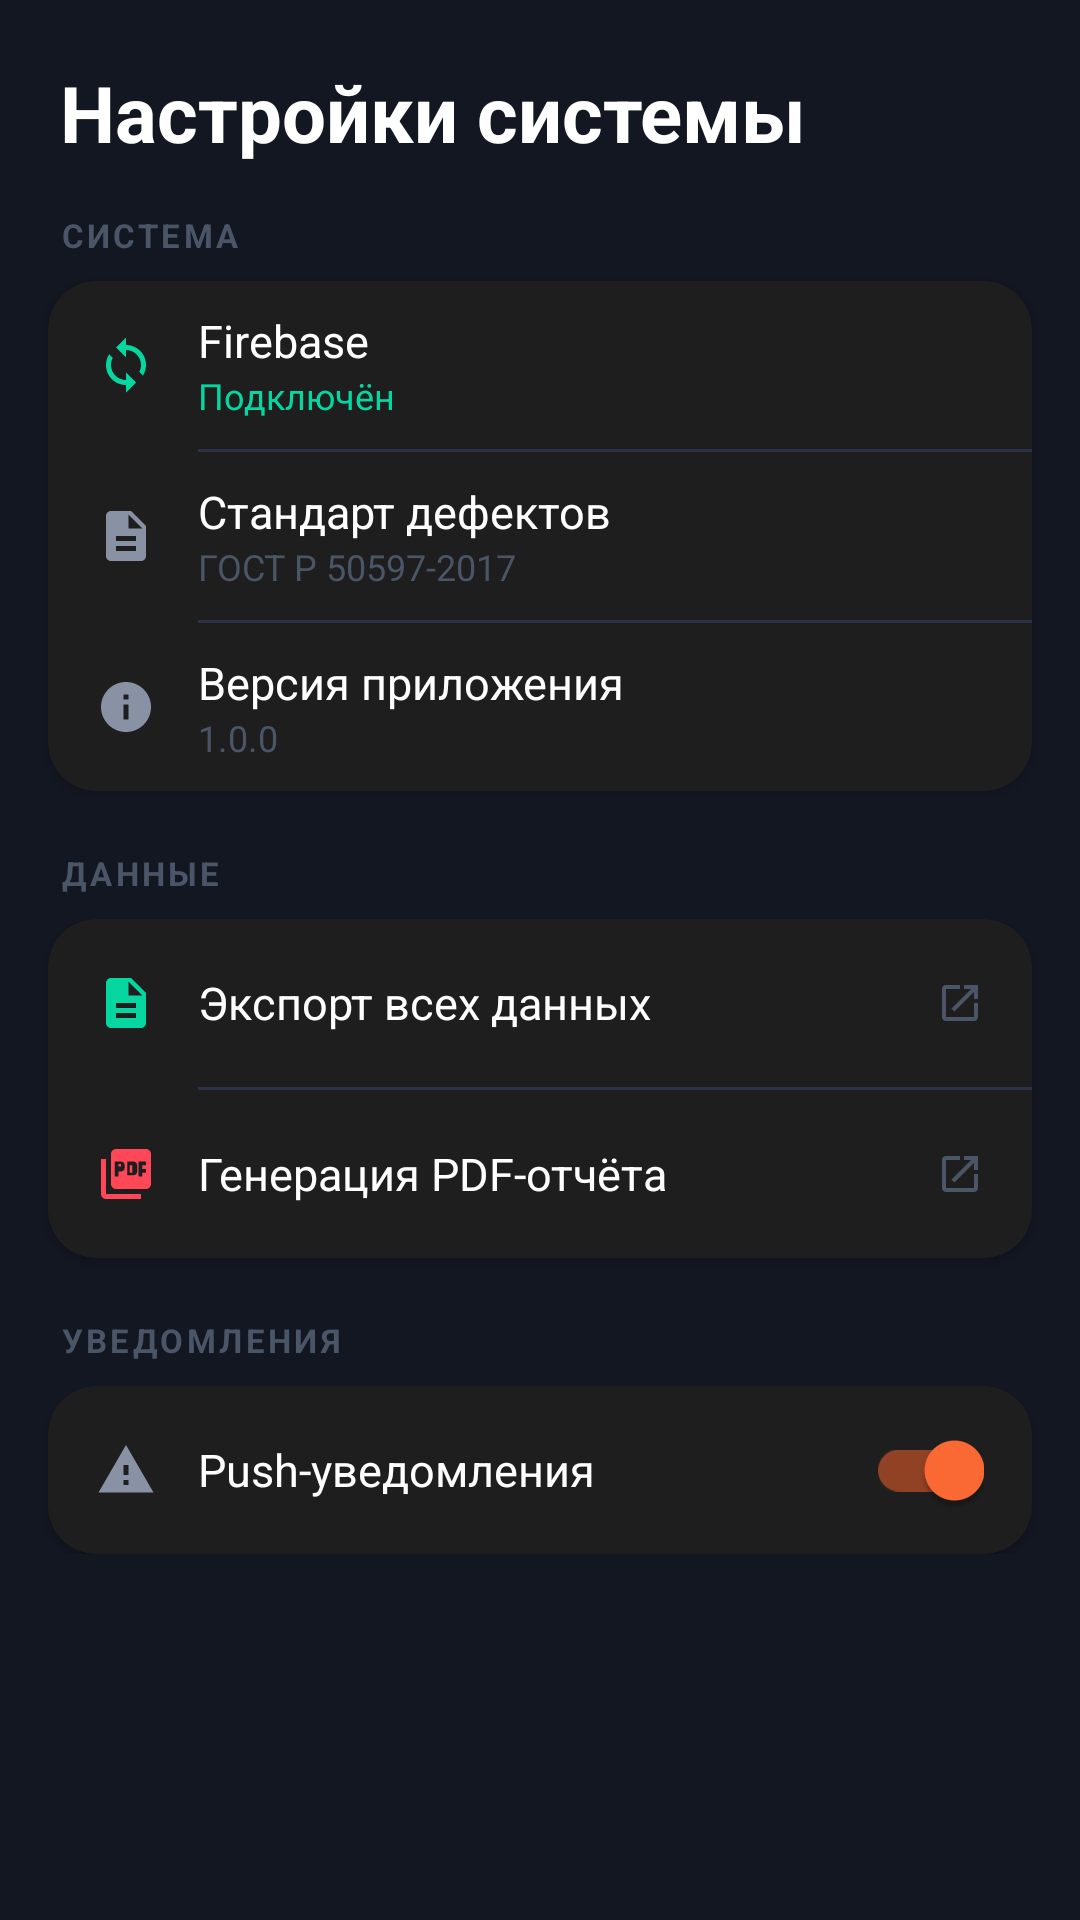

Named icons in this screenshot (1080x1920) and their centers, point (x, y):
description: point (126, 536)
info: point (126, 707)
sync: point (126, 365)
warning: point (126, 1469)
